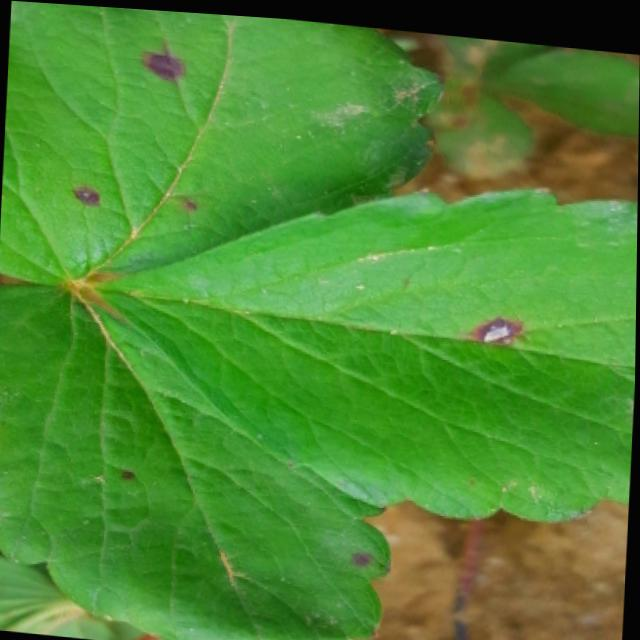Leaf Spot: (76, 175, 638, 514), (0, 280, 394, 640), (0, 1, 449, 284), (422, 74, 543, 176)
